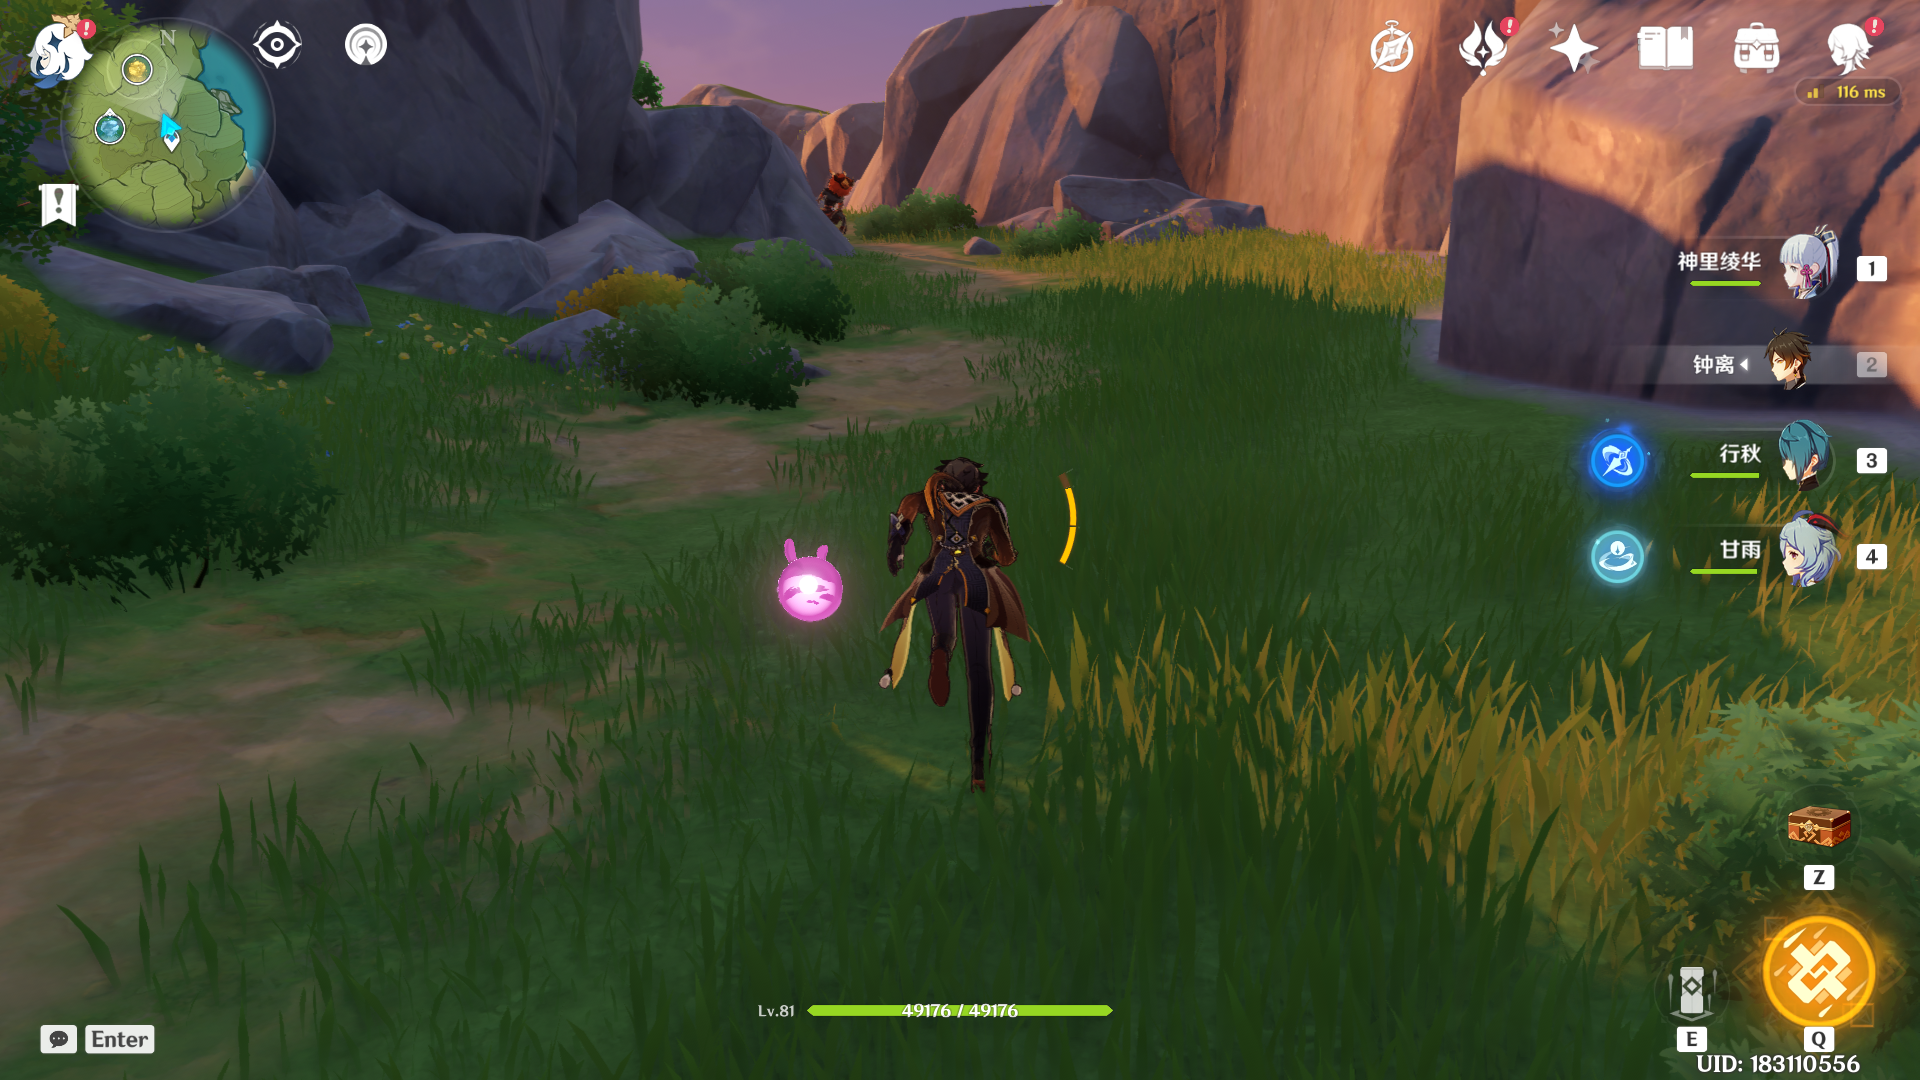character: (833, 452, 1108, 814)
